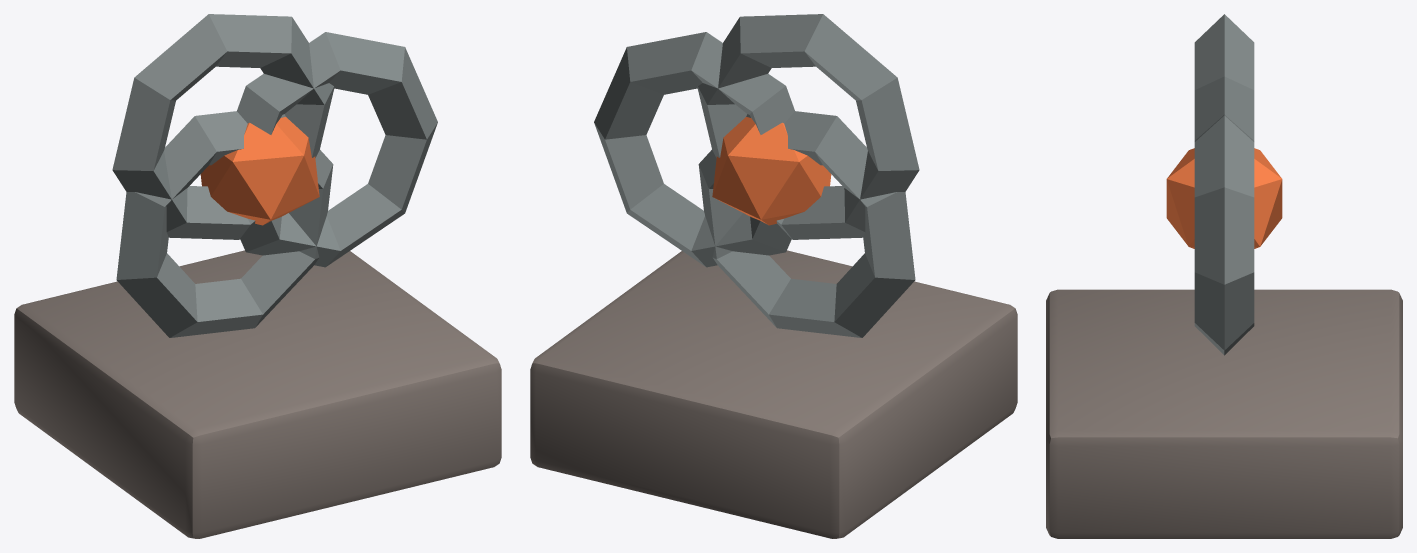
Rendered from prop_knot_link_chain_v1.glb.
3 views of the same model, side by side, from view 1: azimuth 30°, elevation 25°; view 2: azimuth 150°, elevation 25°; view 3: azimuth 270°, elevation 25° (orthographic).
Visible parts, largest first — view 1: ChainPedestal.002, KnotLink_1, KnotLink_0, KnotLink_2, KnotCore; view 2: ChainPedestal.002, KnotLink_1, KnotLink_0, KnotLink_2, KnotCore; view 3: ChainPedestal.002, KnotLink_0, KnotLink_1, KnotCore.
Boxes of the visible parts, bbox=[...] form: ChainPedestal.002: bbox=[14, 250, 501, 538]; KnotLink_1: bbox=[112, 14, 334, 239]; KnotLink_0: bbox=[237, 32, 437, 267]; KnotLink_2: bbox=[116, 111, 333, 337]; KnotCore: bbox=[200, 117, 319, 225]; ChainPedestal.002: bbox=[530, 250, 1017, 538]; KnotLink_1: bbox=[697, 14, 919, 239]; KnotLink_0: bbox=[594, 32, 794, 267]; KnotLink_2: bbox=[698, 111, 915, 337]; KnotCore: bbox=[712, 117, 831, 225]; ChainPedestal.002: bbox=[1046, 289, 1402, 538]; KnotLink_0: bbox=[1194, 114, 1254, 350]; KnotLink_1: bbox=[1194, 14, 1254, 140]; KnotCore: bbox=[1166, 148, 1282, 248].
Bounding box in the file's own units: 0.9 × 1.12 × 0.84.
